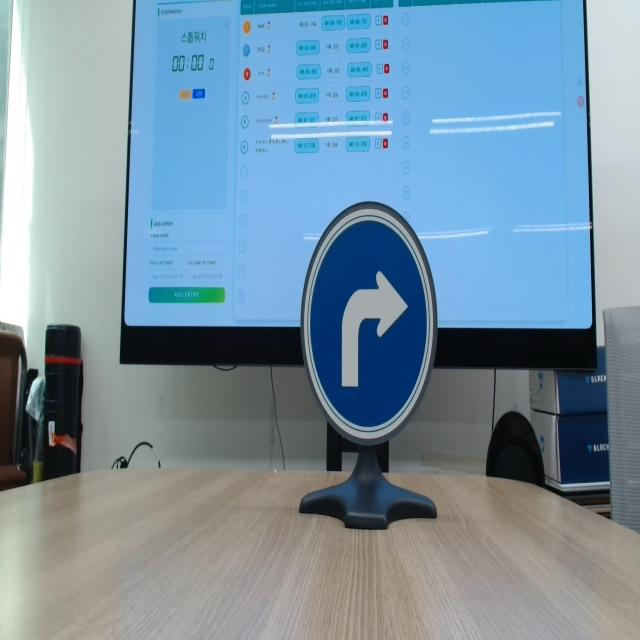right_dierection: (295, 198, 442, 447)
